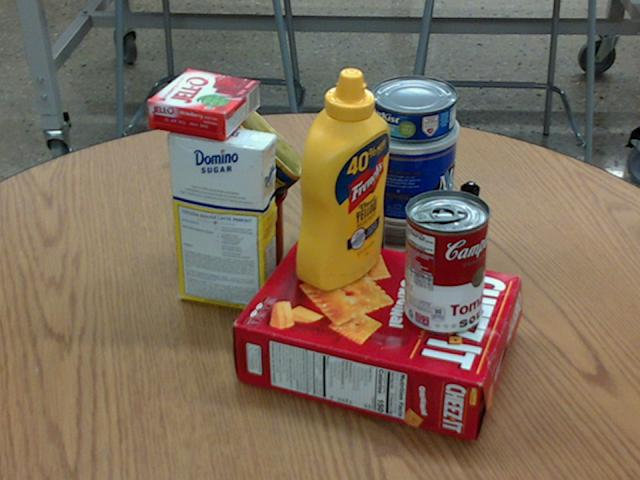cracker_box: (236, 232, 521, 441)
gelatin_box: (147, 69, 260, 139)
large_marker: (451, 181, 478, 294)
master_chef_can: (354, 103, 461, 268)
mug: (195, 165, 287, 272)
mustard_bottle: (295, 67, 388, 290)
potted_meat_can: (174, 100, 304, 228)
sugar_box: (167, 120, 277, 314)
tomato_soup_can: (403, 188, 491, 334)
tuna_fish_can: (371, 76, 458, 141)
